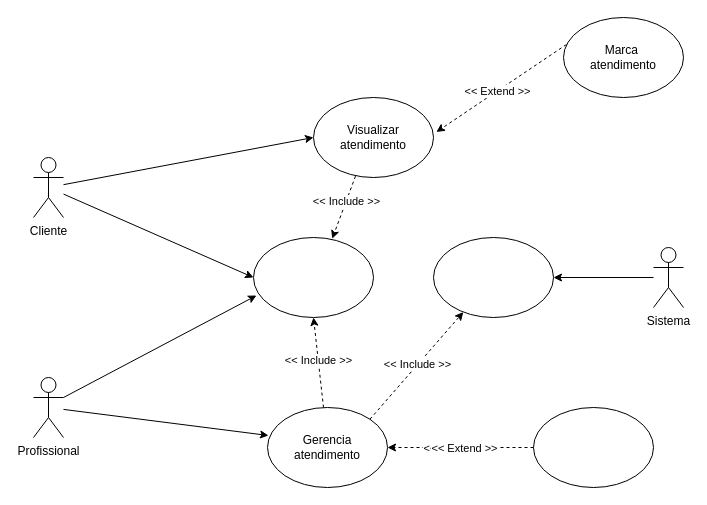
Some shapes in this 707 by 505 pixel diagram are drawn without their labels. Here are the shapes that lost their labels. From the top down, the centre of each, then its label:
At point (313, 277): "Autentica".
At point (493, 277): "Validar conflitos".
At point (593, 447): "Imprimir relatório".
